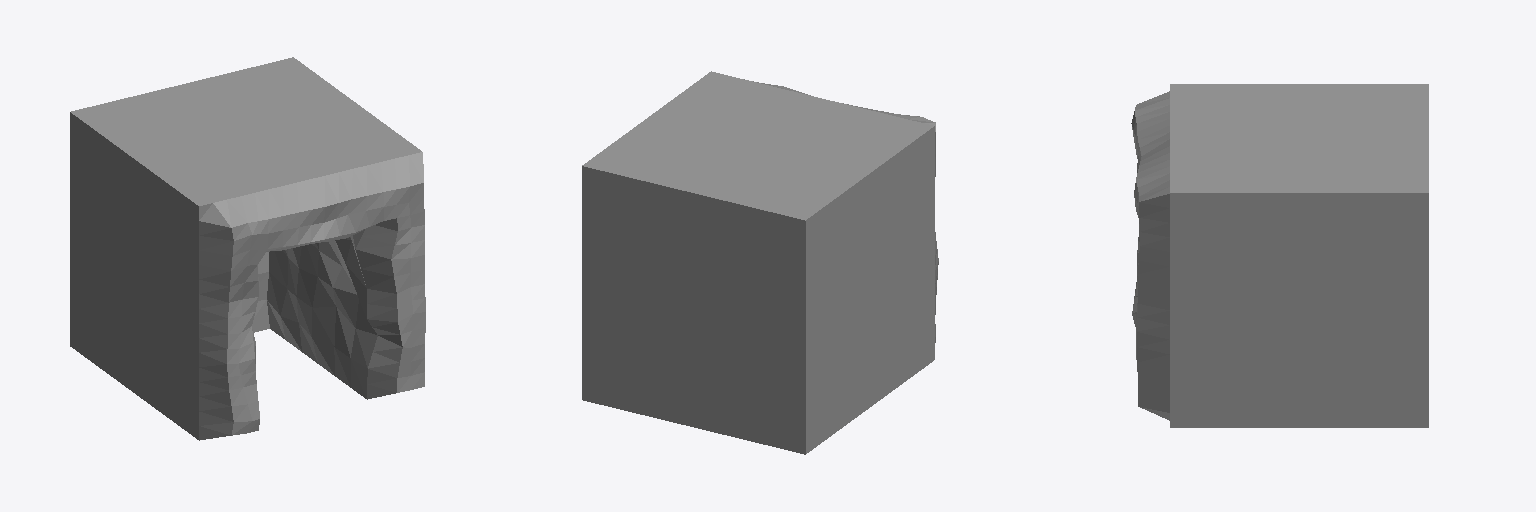
File: deadEnd.obj
3 renders of one model, left to right at view 1: azimuth 30°, elevation 25°; view 2: azimuth 150°, elevation 25°; view 3: azimuth 270°, elevation 25°, orthographic.
Visible parts, largest first — view 1: Cube; view 2: Cube; view 3: Cube.
Boxes of the visible parts, x1=… form: Cube: x1=70, y1=57, x2=425, y2=440; Cube: x1=582, y1=71, x2=938, y2=454; Cube: x1=1131, y1=84, x2=1428, y2=427.
Size of the model in its own units: 2 by 2 by 2.3.